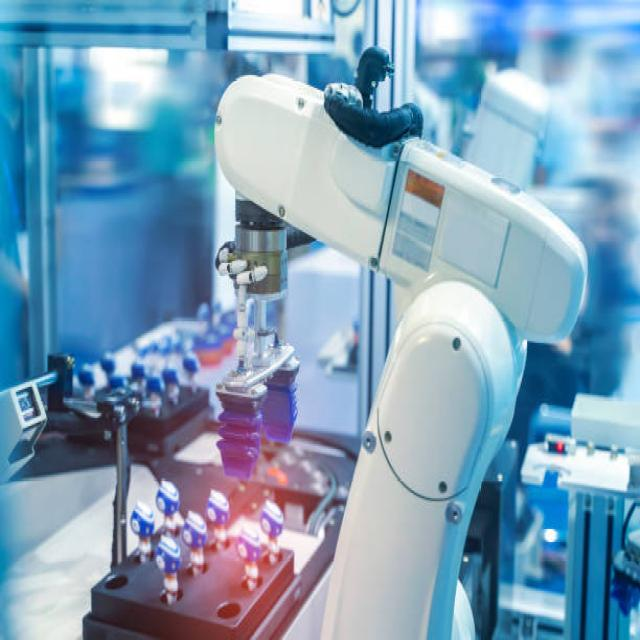Robotic-arm: (196, 52, 597, 640)
